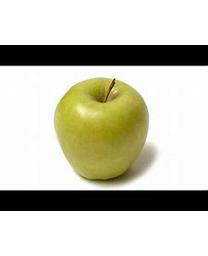apple: (51, 77, 149, 180)
